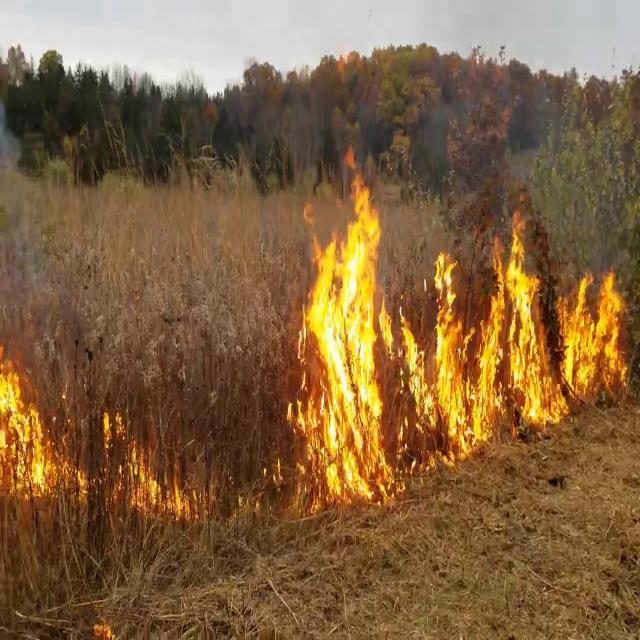Fire: (399, 208, 561, 458), (288, 162, 396, 506), (98, 396, 196, 519), (0, 308, 55, 504), (559, 261, 629, 398)
